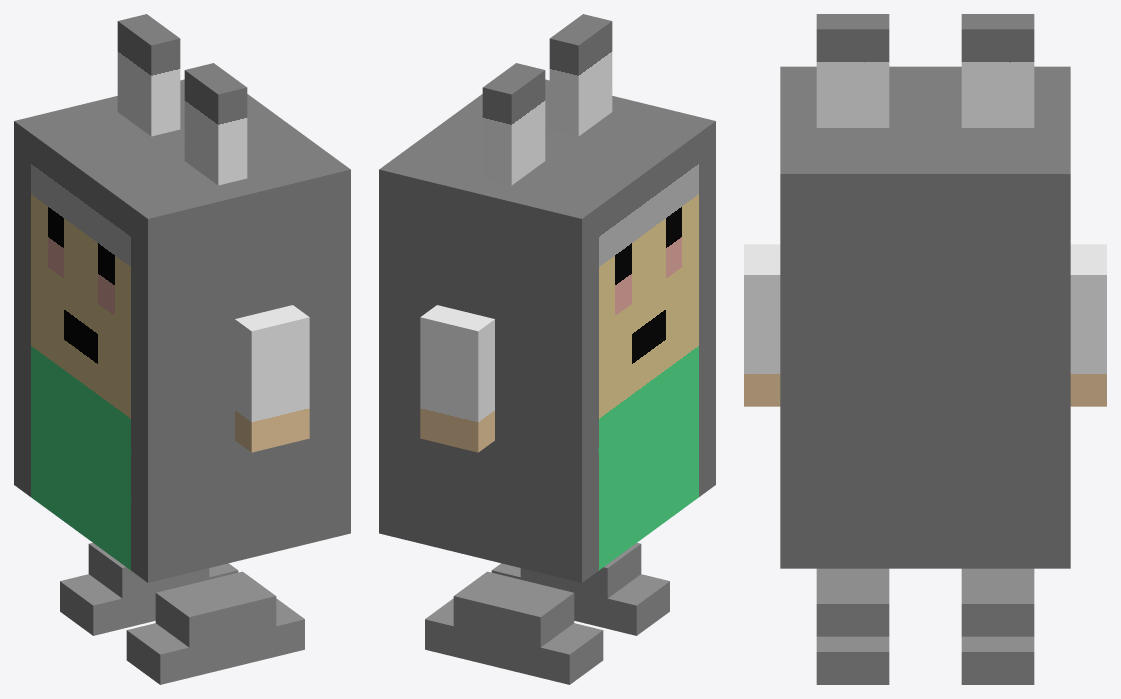
Rendered from Player_4.fbx.
3 views of the same model, side by side, from view 1: azimuth 30°, elevation 25°; view 2: azimuth 150°, elevation 25°; view 3: azimuth 270°, elevation 25° (orthographic). The views are drawn at different scales.
Parts seen in each view (by area): view 1: Main, LeftFoot, LeftHand, RightFoot; view 2: Main, RightFoot, RightHand, LeftFoot; view 3: Main, LeftFoot, RightFoot, RightHand, LeftHand.
Boxes of the visible parts, x1=… form: Main: x1=14, y1=14, x2=350, y2=582; LeftFoot: x1=126, y1=571, x2=304, y2=684; LeftHand: x1=235, y1=305, x2=309, y2=452; RightFoot: x1=60, y1=543, x2=238, y2=635; Main: x1=379, y1=14, x2=715, y2=582; RightFoot: x1=425, y1=571, x2=603, y2=684; RightHand: x1=420, y1=305, x2=494, y2=452; LeftFoot: x1=491, y1=543, x2=669, y2=635; Main: x1=780, y1=14, x2=1070, y2=568; LeftFoot: x1=816, y1=568, x2=889, y2=684; RightFoot: x1=961, y1=568, x2=1034, y2=684; RightHand: x1=1070, y1=244, x2=1106, y2=406; LeftHand: x1=744, y1=244, x2=780, y2=406.
Size of the model in its own units: 7 by 19 by 10.
Materials: 1 (1 with a texture image).
